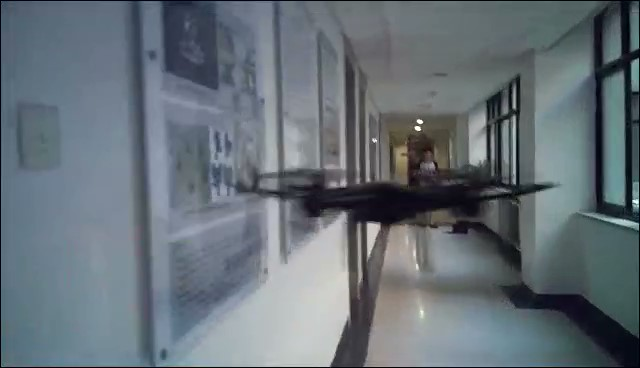drone: (232, 167, 558, 276)
person: (411, 147, 443, 231)
